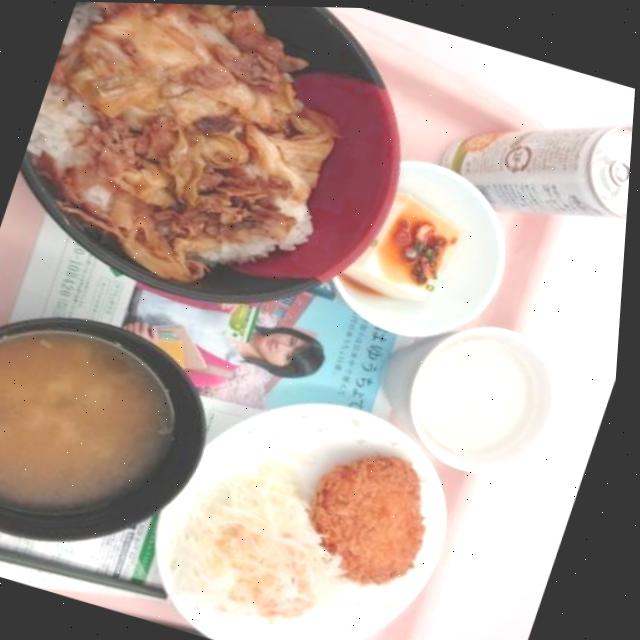汤锅炖物: (0, 291, 271, 594)
炸货点心: (280, 432, 458, 604)
蔬菜料理: (161, 452, 387, 640)
豆腐料理: (311, 148, 538, 364)
